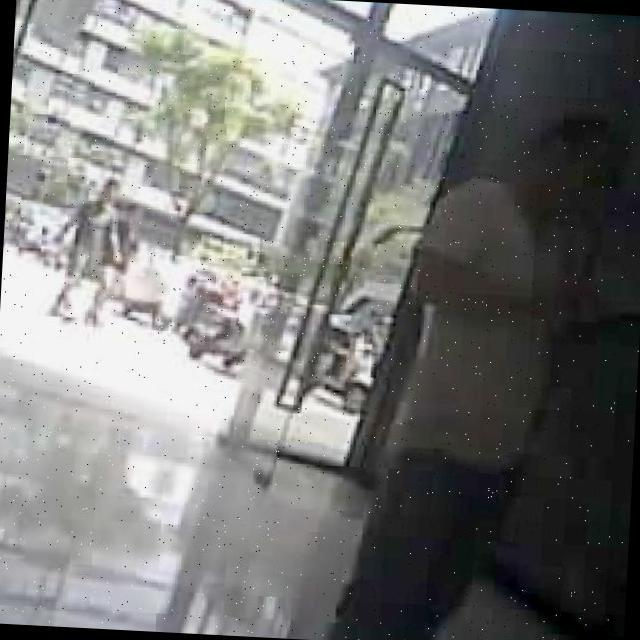person: (324, 107, 621, 640), (46, 168, 128, 330), (83, 200, 144, 328)
